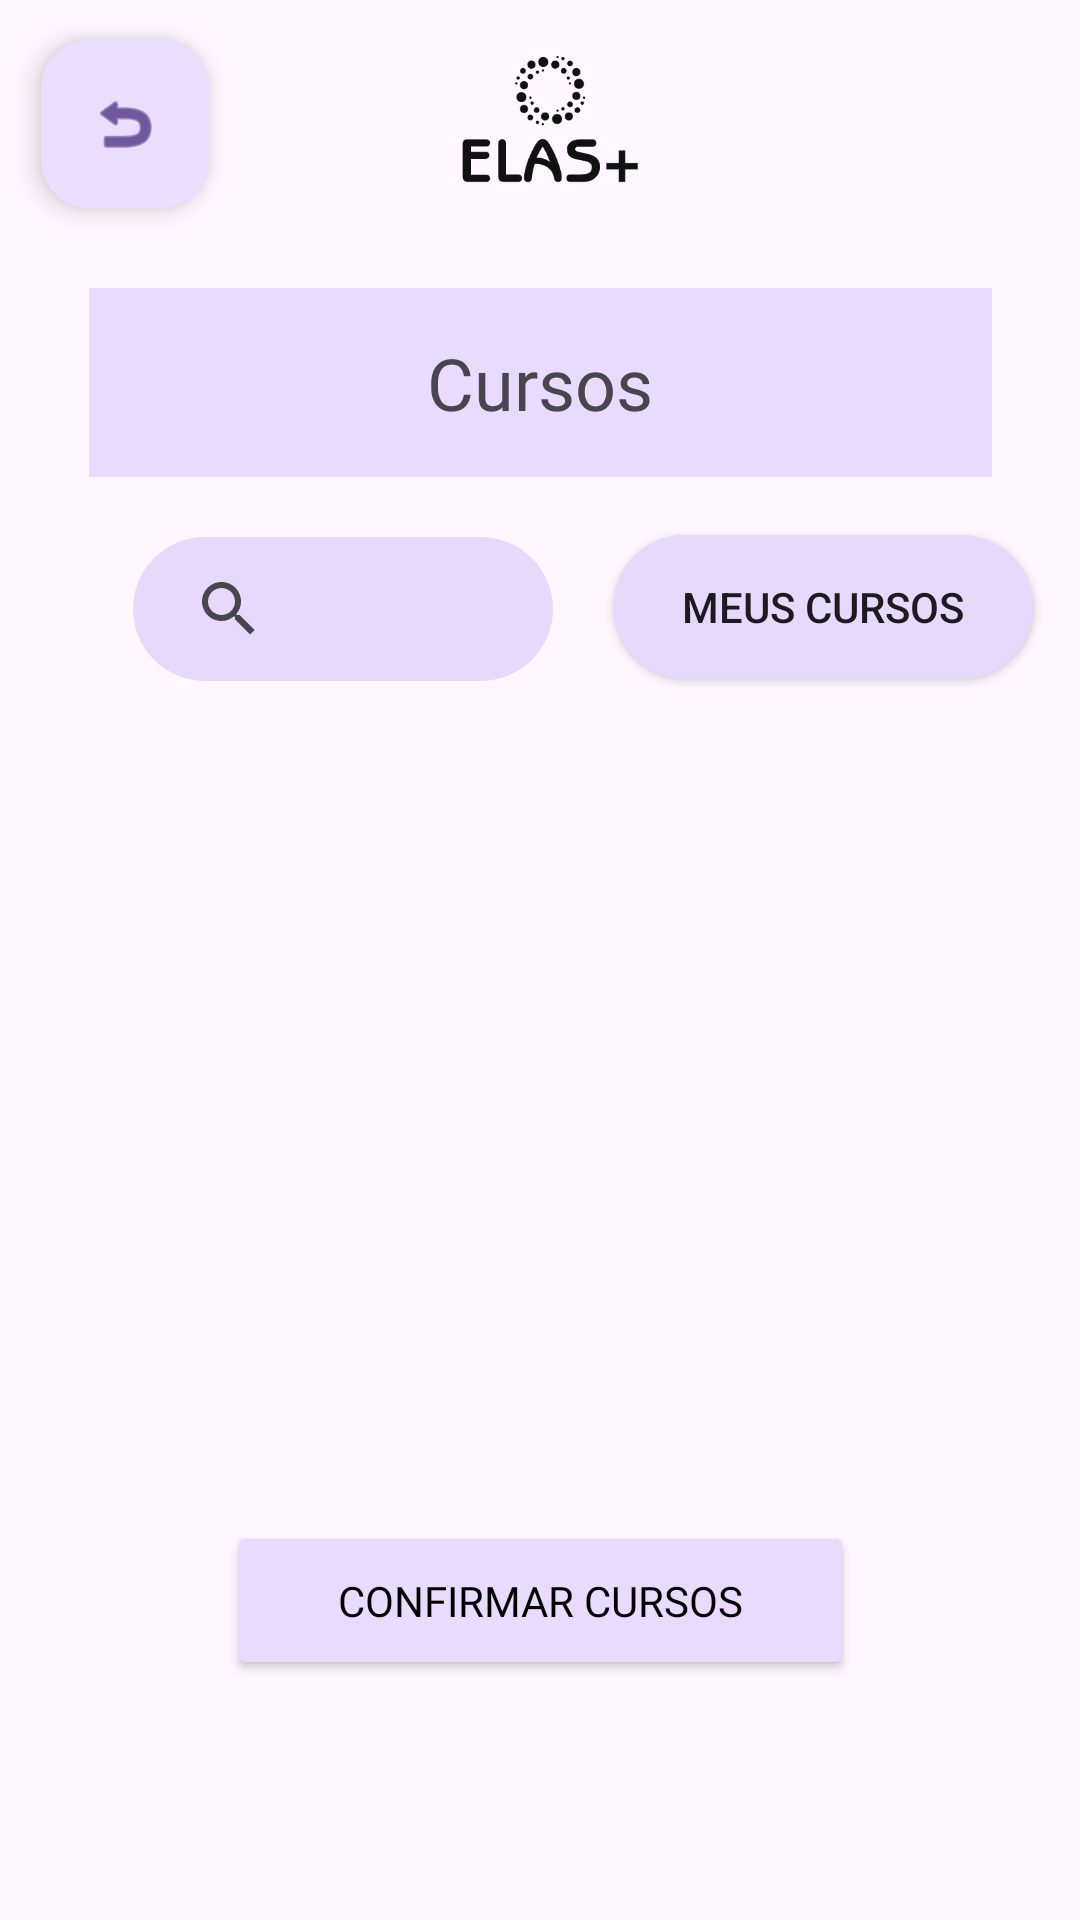

Icons on this 1080×1920 Android screen, each with its box as (x1, y1, x2, y2):
revert: (100, 101, 152, 148)
